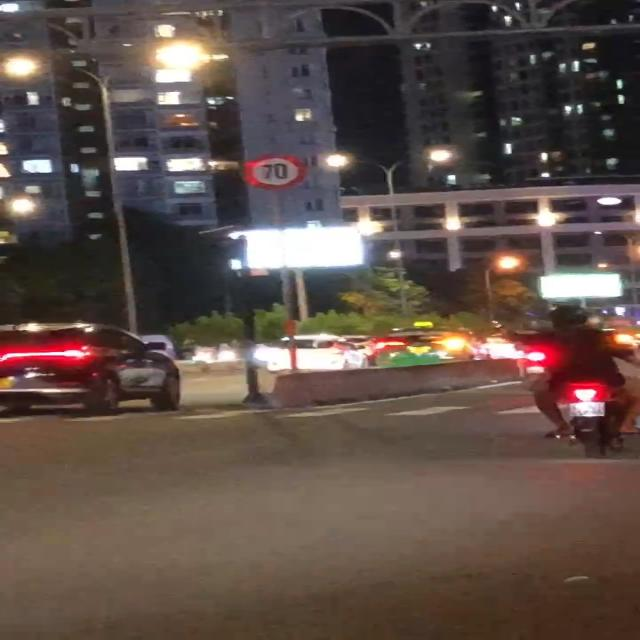Bien bao toc do toi da cho phep: (238, 150, 310, 193)
